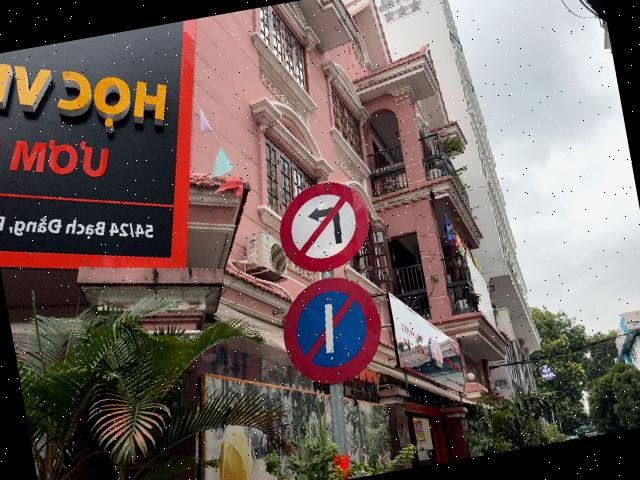cam-do-xe-ngay-le: (274, 268, 389, 390)
cam-re-phai: (270, 174, 378, 278)
